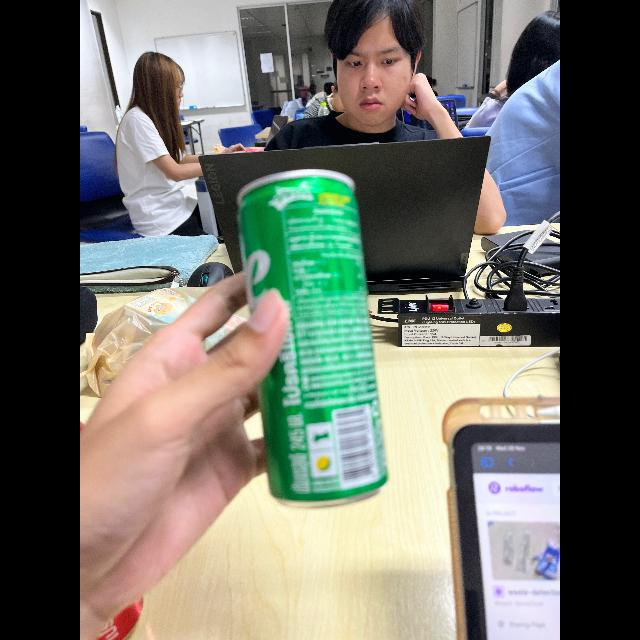can: (232, 170, 402, 512)
